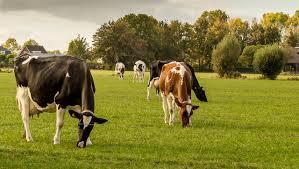cow: (15, 55, 106, 147), (159, 62, 199, 128), (147, 62, 208, 101), (133, 60, 146, 83), (116, 63, 125, 80)
